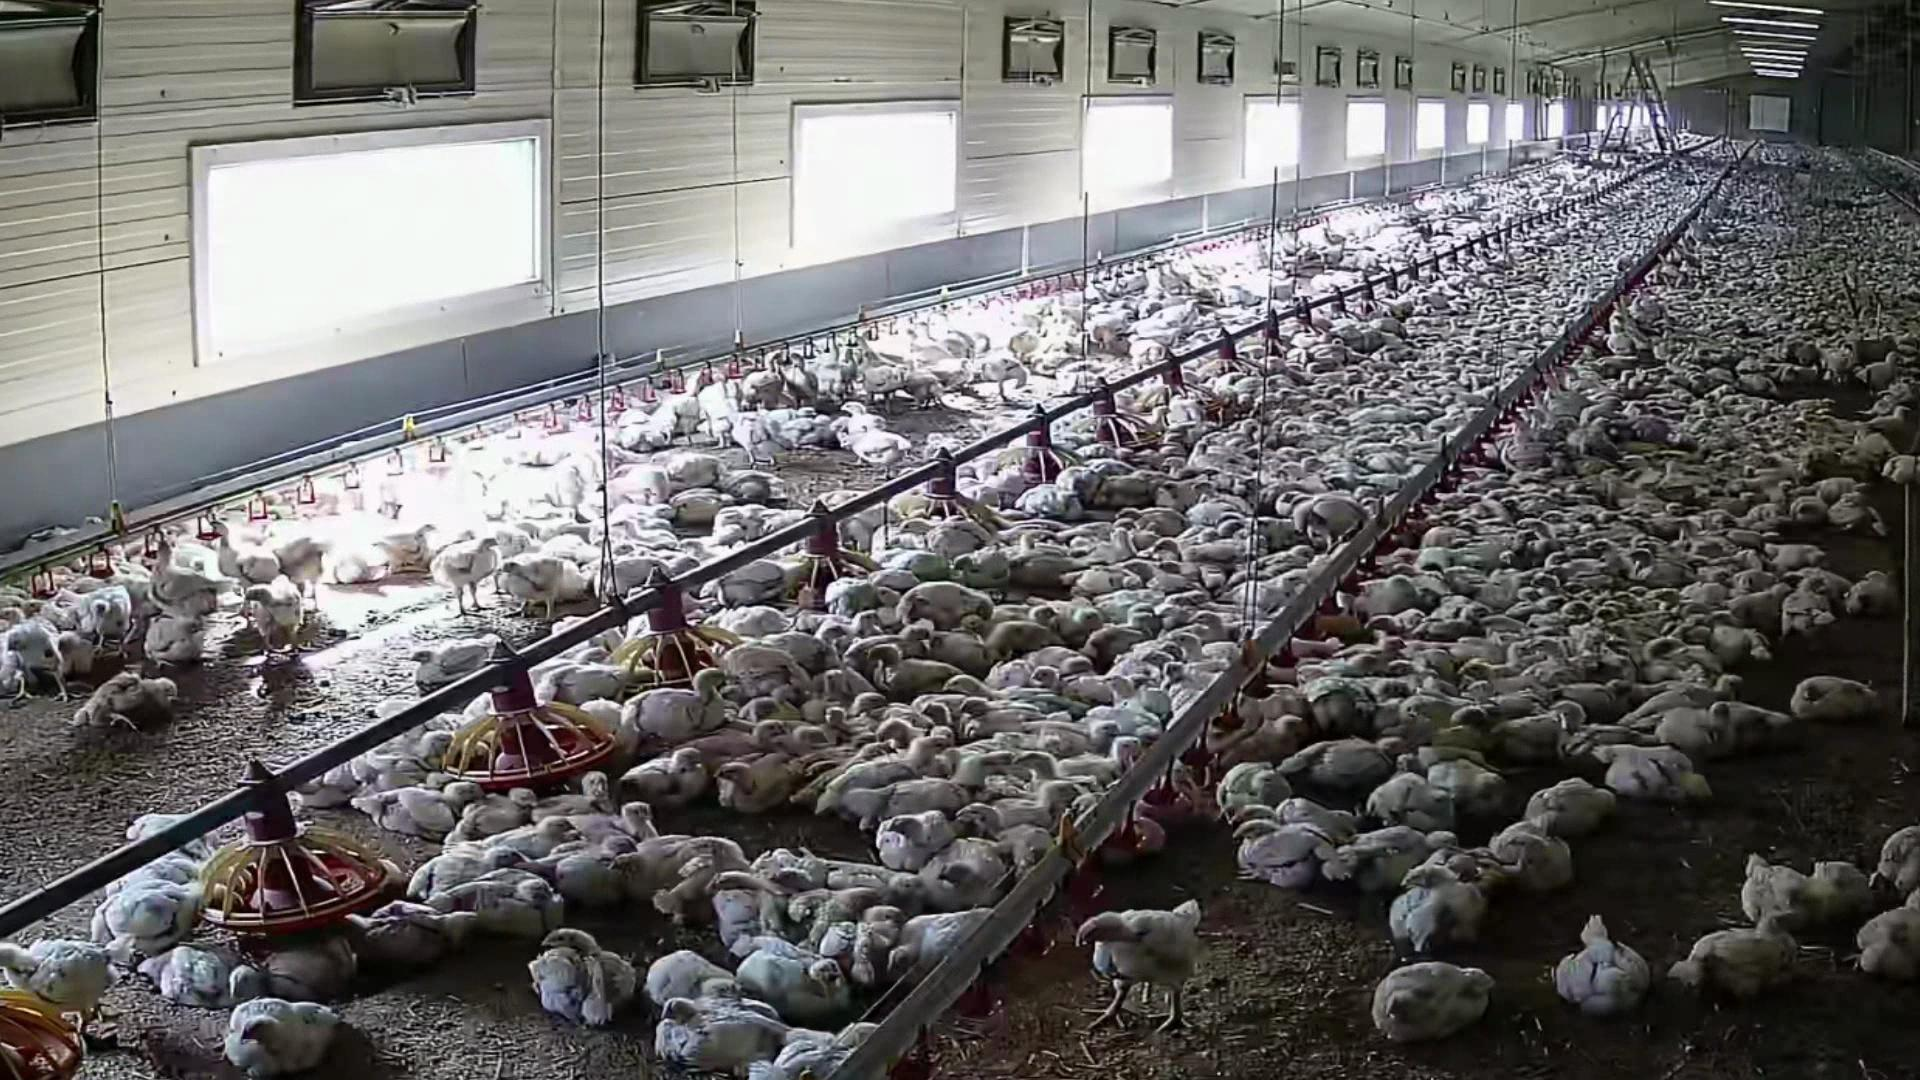poussin: (1068, 899, 1241, 1040), (1352, 944, 1505, 1051), (0, 928, 135, 1040), (1536, 909, 1656, 1029), (1669, 918, 1815, 1017), (527, 918, 636, 1026), (69, 661, 204, 746), (331, 898, 485, 972), (1753, 839, 1874, 932), (208, 997, 348, 1073), (728, 920, 852, 1006), (146, 936, 272, 1021), (1382, 857, 1501, 943), (650, 993, 783, 1064), (237, 576, 328, 671), (1224, 818, 1329, 895), (425, 533, 518, 617), (1597, 738, 1710, 807), (384, 618, 509, 679), (1787, 674, 1894, 741), (1489, 816, 1585, 890), (1441, 702, 1556, 762), (150, 534, 223, 628), (626, 667, 737, 728), (100, 881, 211, 942), (1859, 887, 1920, 993), (957, 793, 1047, 864), (1524, 770, 1621, 836), (843, 732, 953, 789), (945, 673, 1080, 717), (58, 579, 145, 647), (1865, 800, 1920, 907), (707, 750, 798, 814), (640, 943, 742, 998), (498, 551, 582, 617), (1, 618, 69, 698), (1549, 700, 1655, 750), (550, 839, 633, 898), (877, 810, 953, 872), (1288, 492, 1369, 550), (622, 752, 708, 806), (1767, 582, 1840, 645), (732, 407, 806, 469), (869, 647, 969, 691), (1660, 707, 1741, 761), (1211, 757, 1292, 810), (1828, 493, 1900, 553), (400, 775, 473, 833), (381, 524, 455, 579), (684, 723, 787, 761), (975, 355, 1046, 407), (458, 789, 542, 832), (1158, 533, 1247, 574), (836, 430, 919, 472), (496, 812, 574, 855), (535, 775, 620, 814), (992, 604, 1062, 650), (584, 800, 667, 839), (956, 551, 1021, 599), (1567, 676, 1642, 716), (1619, 546, 1685, 589), (1385, 686, 1439, 738), (1453, 529, 1536, 563), (1038, 717, 1117, 753), (1840, 567, 1905, 609), (1510, 514, 1585, 551), (1418, 603, 1495, 636), (955, 698, 1038, 727), (1578, 407, 1621, 456), (840, 401, 898, 434), (1697, 667, 1753, 699), (1014, 749, 1063, 782), (1102, 670, 1147, 705), (1365, 612, 1427, 637), (1025, 653, 1065, 688), (1370, 626, 1415, 658), (1163, 477, 1203, 512), (1606, 328, 1644, 363), (1586, 539, 1625, 570), (874, 715, 914, 738), (1071, 604, 1108, 625), (1466, 683, 1505, 703), (1466, 663, 1498, 680), (931, 724, 957, 740)
